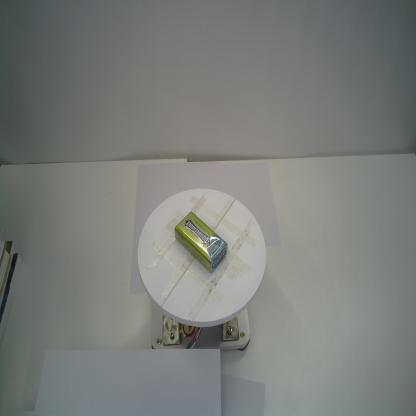Gum: (174, 211, 228, 274)
